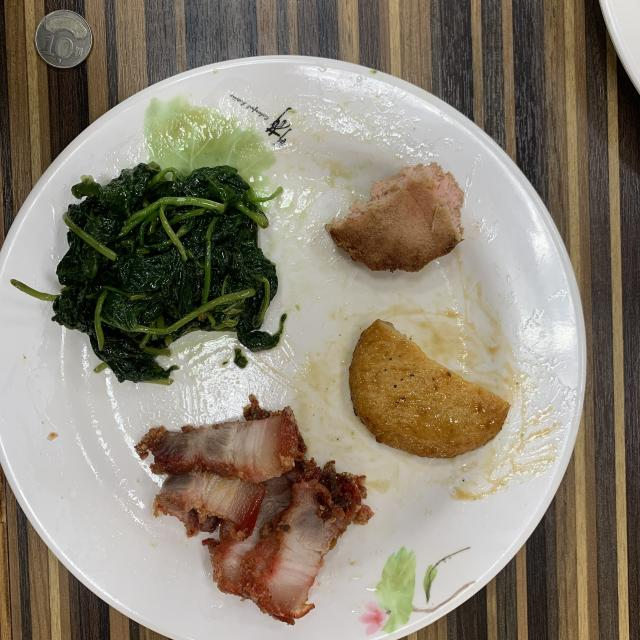Spam: (326, 162, 464, 271)
coin: (35, 10, 92, 69)
fish cake: (349, 320, 510, 458)
red grilled pork: (136, 395, 372, 624)
sweet potato leaves: (11, 162, 282, 381)
